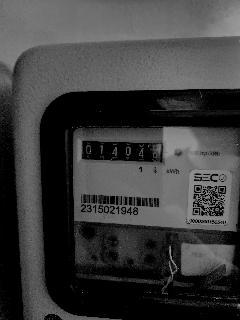1: (87, 146, 92, 155), (126, 147, 131, 156)
2: (99, 146, 105, 155)
5: (113, 147, 118, 156), (139, 149, 144, 158)
:: (153, 153, 158, 161)
